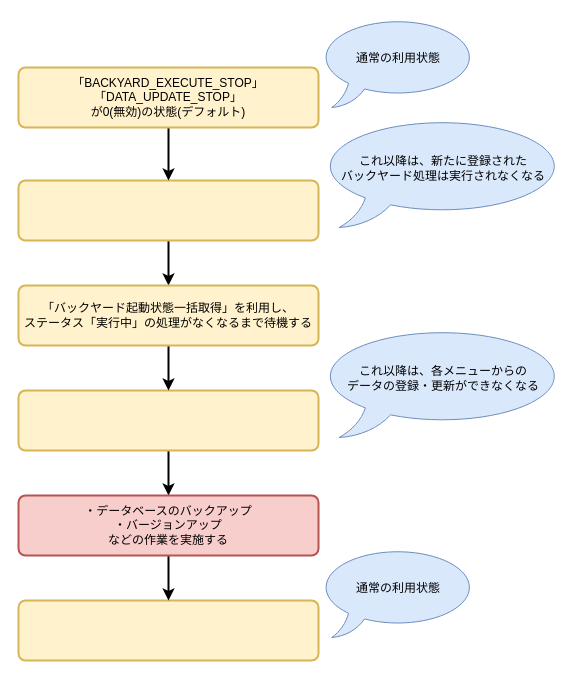
Image size: 586x679. Some labels were removed from this diagram. Each missing label, with the centre of its shape:
「BACKYARD_EXECUTE_STOP」 「DATA_UPDATE_STOP」 を0(無効)にする: the point at 168,630
「BACKYARD_EXECUTE_STOP」 を1(有効)にする: the point at 168,210
「DATA_UPDATE_STOP」 を1(有効)にする: the point at 168,420
